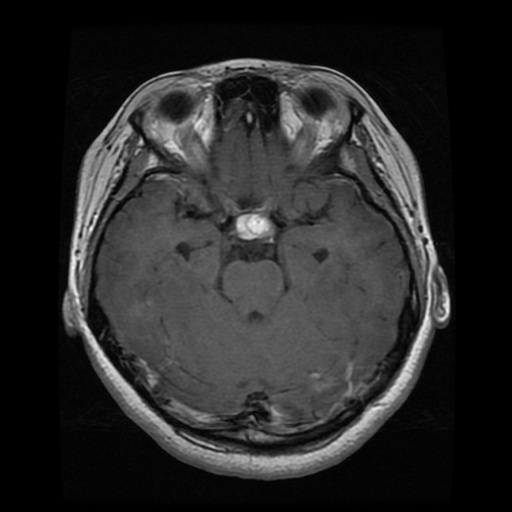pituitary: (236, 213, 274, 239)
